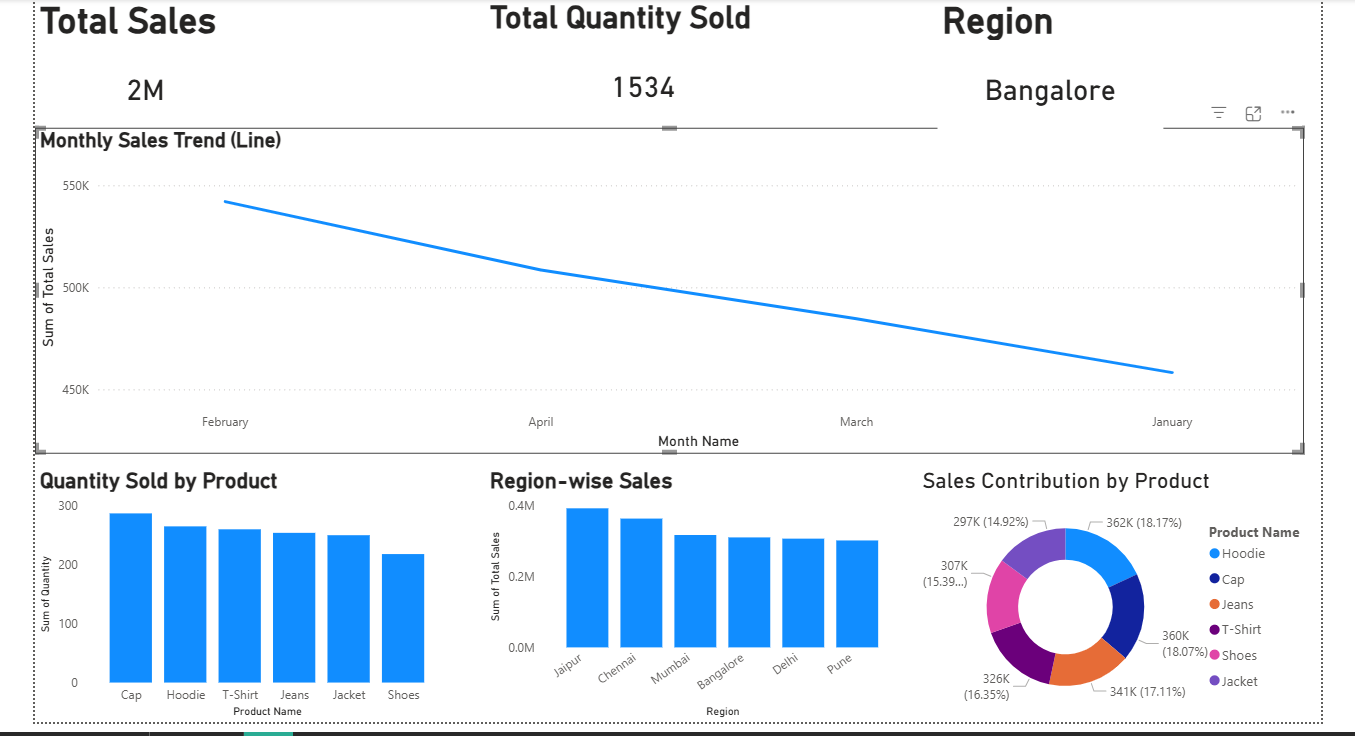

Layout of this report page (visuals, bound fields, positions):
{"tool":"powerbi","page":{"name":"Page 1","canvas":[1280,720],"ordinal":0},"visuals":[{"type":"card","title":"Total Sales","fields":{"Values":["Sum(Sales Data.Total Sales)","select"]},"box":[0,0,220.2,136.8],"z":0},{"type":"card","title":"Total Quantity Sold","fields":{"Values":["Sum(Sales Data.Quantity)"]},"box":[447.8,0,314.7,136.8],"z":1000},{"type":"lineChart","title":"        Monthly Sales Trend (Line)","fields":{"Category":["Sales Data.Month Name"],"Y":["Sum(Sales Data.Total Sales)"]},"box":[0,128.1,1262.6,324.7],"z":2000},{"type":"clusteredColumnChart","title":"Region-wise Sales","fields":{"Category":["Sales Data.Region"],"Y":["Sum(Sales Data.Total Sales)"]},"box":[447.8,466.5,419.2,253.8],"z":3000},{"type":"clusteredColumnChart","title":"Quantity Sold by Product","fields":{"Category":["Sales Data.Product Name"],"Y":["Sum(Sales Data.Quantity)"]},"box":[0,466.5,415.5,253.8],"z":4000},{"type":"donutChart","title":"Sales Contribution by Product","fields":{"Category":["Sales Data.Product Name"],"Y":["Sum(Sales Data.Total Sales)"]},"box":[878.2,466.5,401.8,253.8],"z":5000},{"type":"card","title":"Region","fields":{"Values":["Min(Sales Data.Region)"]},"box":[898.1,0,225.2,136.8],"z":6000}]}

Visuals, with their boxes in screenshot pixels (x1, y1, x2, y2):
"Total Sales" card: left=28, top=0, right=251, bottom=138
"Total Quantity Sold" card: left=481, top=0, right=798, bottom=138
"        Monthly Sales Trend (Line)" lineChart: left=28, top=129, right=1304, bottom=457
"Region-wise Sales" clusteredColumnChart: left=481, top=471, right=904, bottom=728
"Quantity Sold by Product" clusteredColumnChart: left=28, top=471, right=448, bottom=728
"Sales Contribution by Product" donutChart: left=915, top=471, right=1321, bottom=728
"Region" card: left=935, top=0, right=1163, bottom=138
